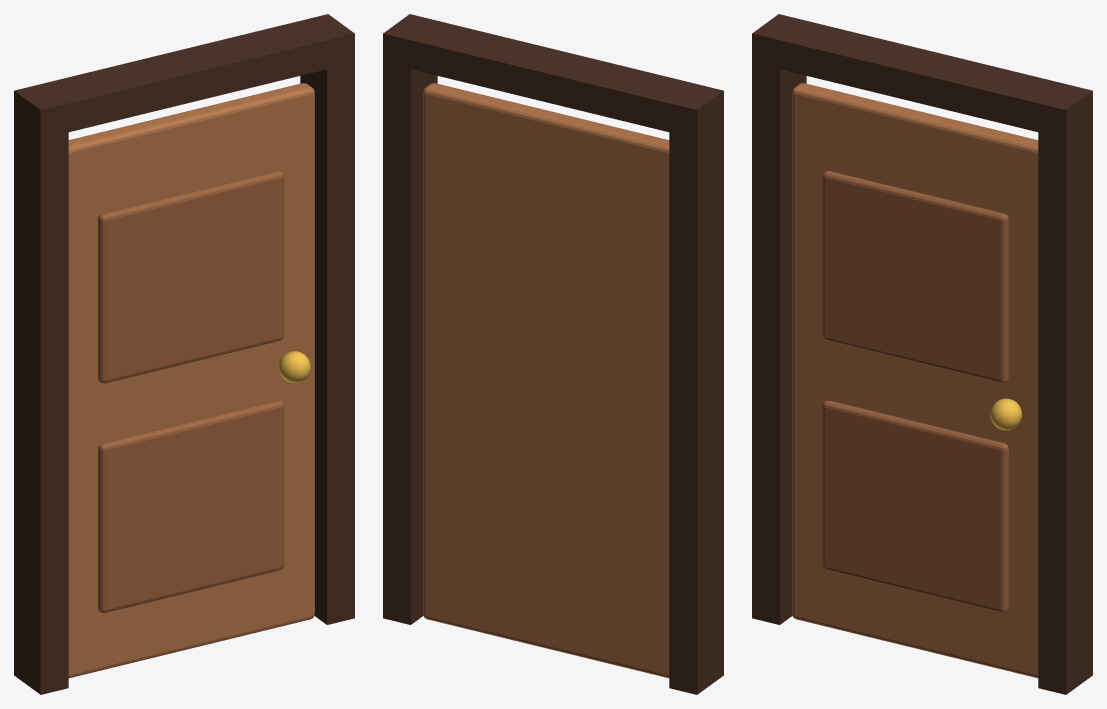
The model's file is puerta.glb.
3 views of the same model, side by side, from view 1: azimuth 30°, elevation 25°; view 2: azimuth 150°, elevation 25°; view 3: azimuth 330°, elevation 25° (orthographic).
Visible parts, largest first — view 1: hoja, Cube, Cube.001, Cube.002; view 2: hoja, Cube, Cube.001, Cube.002; view 3: hoja, Cube.001, Cube, Cube.002.
Boxes of the visible parts, box(x1,y1,x2,y2) form: hoja: box(68, 83, 314, 678); Cube: box(14, 120, 68, 694); Cube.001: box(300, 62, 354, 624); Cube.002: box(14, 14, 354, 138); hoja: box(423, 83, 669, 678); Cube: box(669, 120, 723, 694); Cube.001: box(383, 62, 437, 624); Cube.002: box(383, 14, 723, 138); hoja: box(792, 83, 1038, 678); Cube.001: box(1038, 120, 1092, 694); Cube: box(752, 62, 806, 624); Cube.002: box(752, 14, 1092, 138).
Size of the model in its own units: 1.36 by 2.42 by 0.26.
